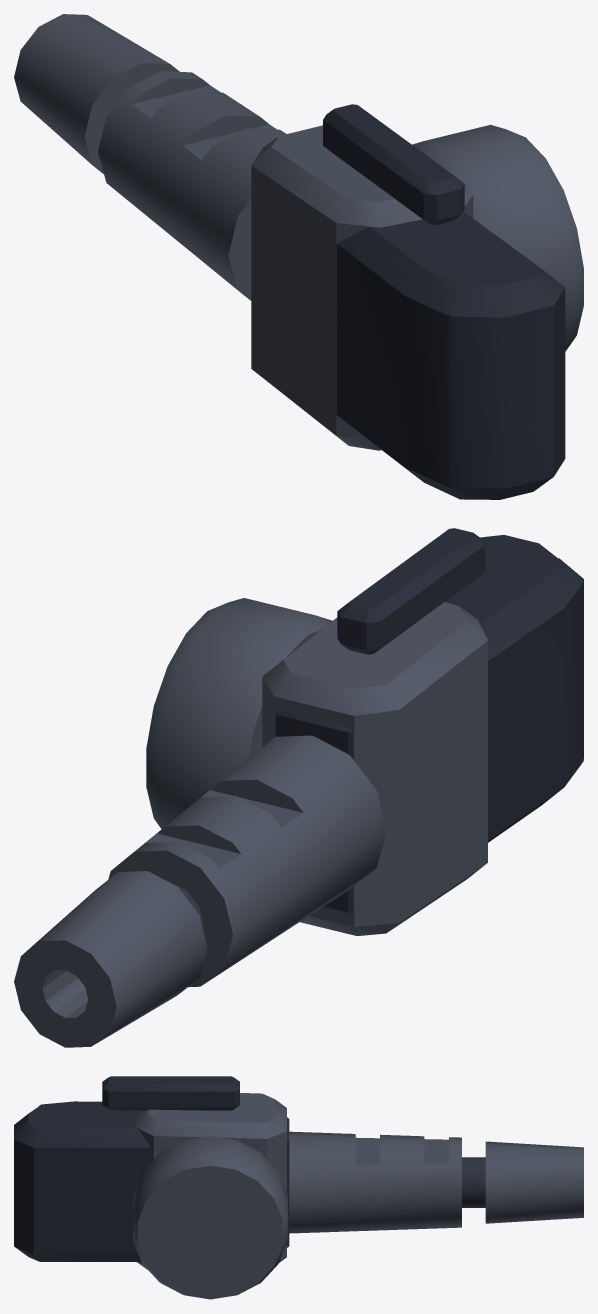
Rendered from w_a_artillery_gun.glb.
3 views of the same model, one above another, from view 1: azimuth 30°, elevation 25°; view 2: azimuth 150°, elevation 25°; view 3: azimuth 270°, elevation 25° (orthographic). The views are drawn at different scales.
Parts seen in each view (by area): view 1: weapon_body; view 2: weapon_body; view 3: weapon_body, weapon_metal.
Part boxes in pixels (left/top/right/bottom): weapon_body: left=14, top=14, right=583, bottom=499; weapon_body: left=14, top=528, right=583, bottom=1047; weapon_body: left=14, top=1076, right=583, bottom=1299; weapon_metal: left=462, top=1157, right=485, bottom=1207.
Bounding box in the file's own units: 1.19 × 1.39 × 4.
